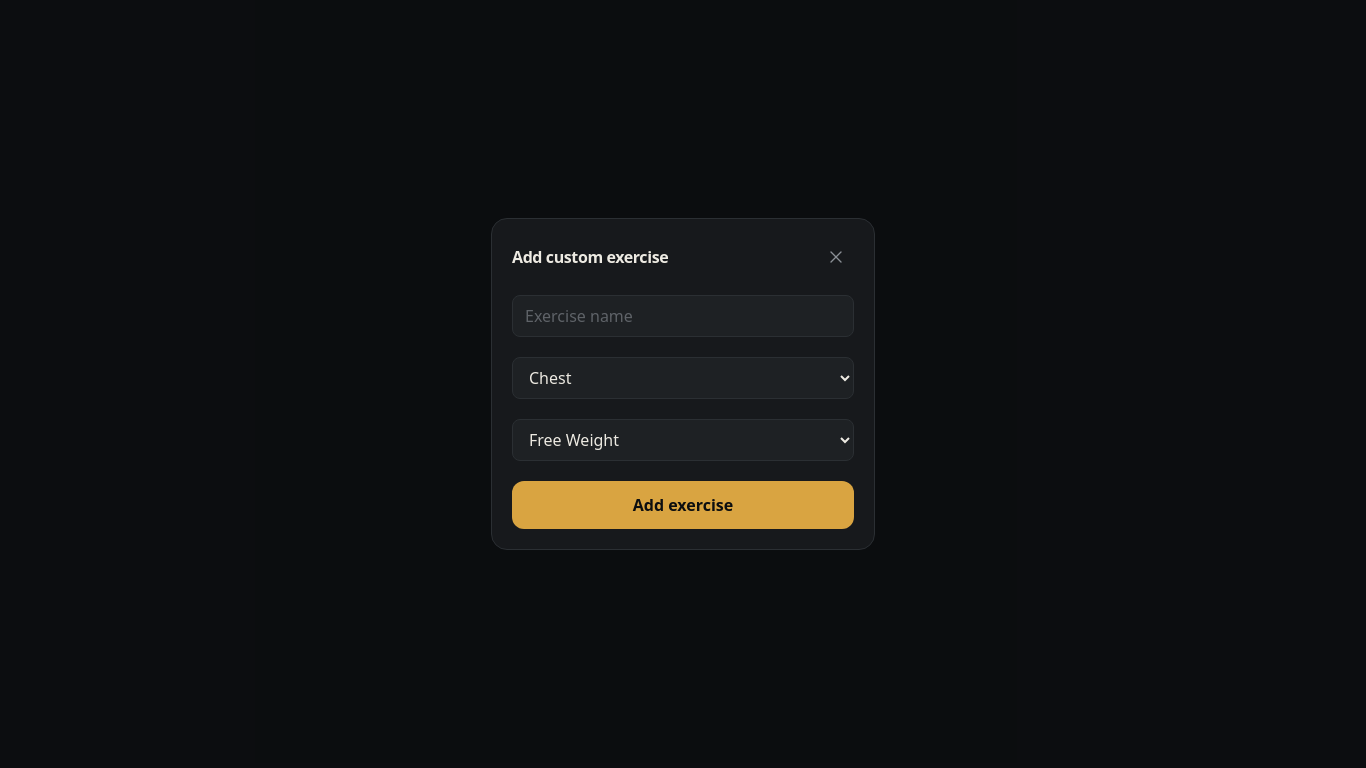
Test case: AddExerciseSheet › blocks submit with an empty name
Step 1. Click the button "Add exercise" → (683, 505), box [512,481,854,529]
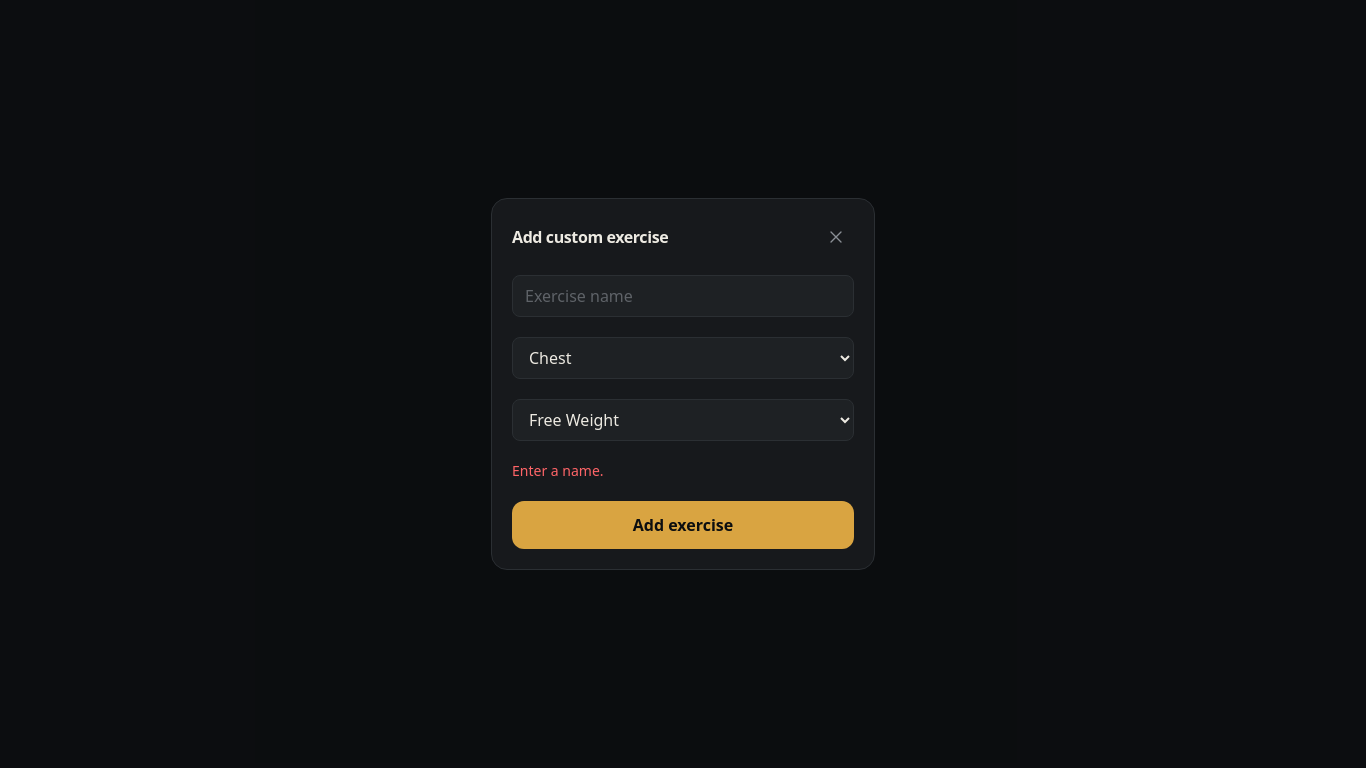
Expected: the text "Enter a name." is shown, [512,461,604,480]
